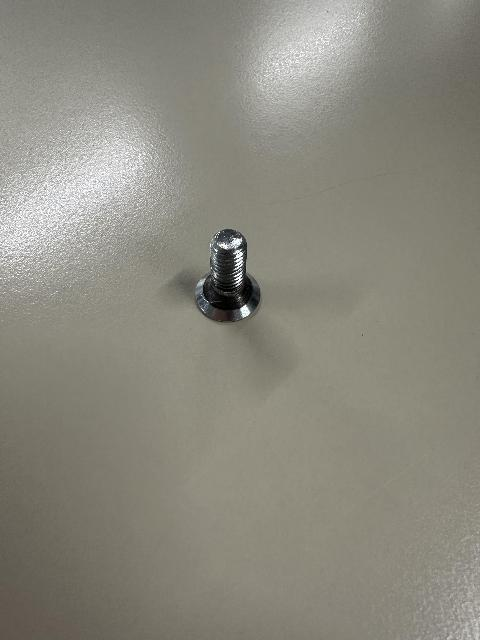Metal: (187, 217, 283, 327)
